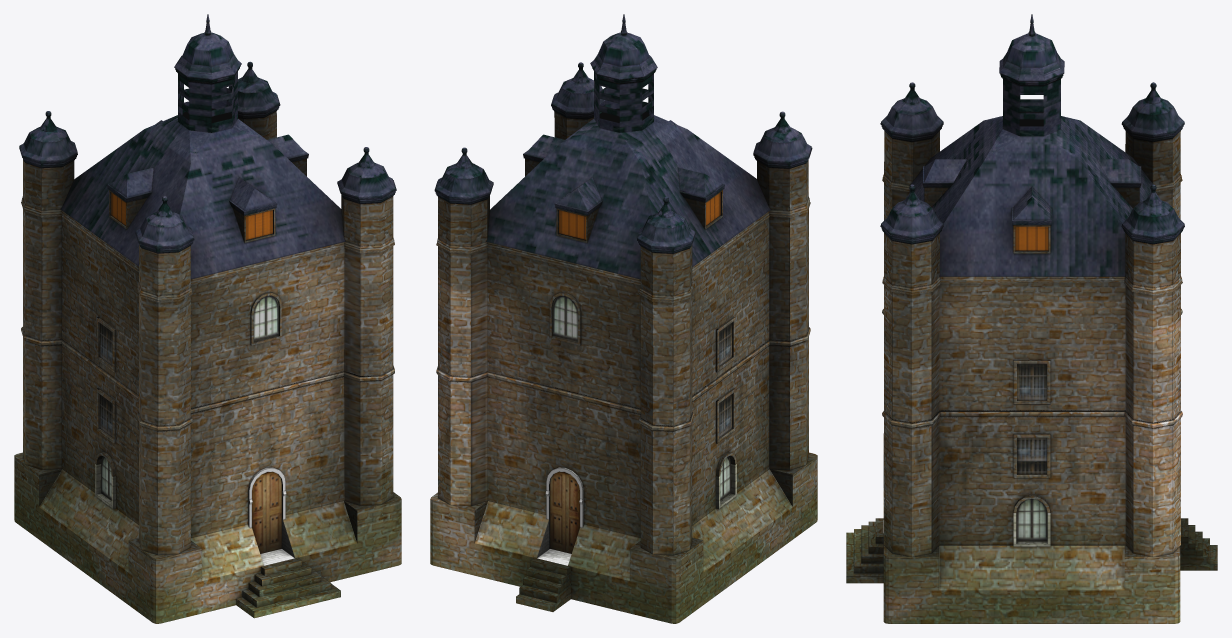
Rendered from Cathedral.obj.
3 renders of one model, left to right at view 1: azimuth 30°, elevation 25°; view 2: azimuth 150°, elevation 25°; view 3: azimuth 270°, elevation 25°, orthographic. The views are drawn at different scales.
Size of the model in its own units: 1.36 by 2.69 by 1.66.
Materials: 1 (1 with a texture image).
